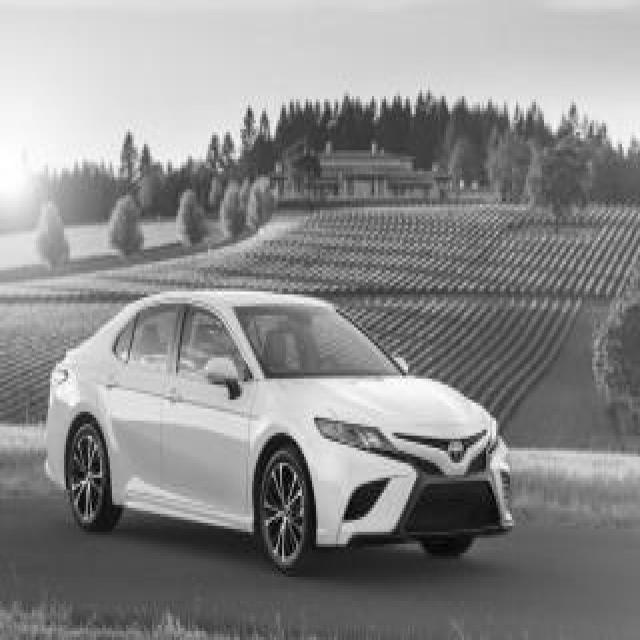Car: (46, 297, 513, 570)
